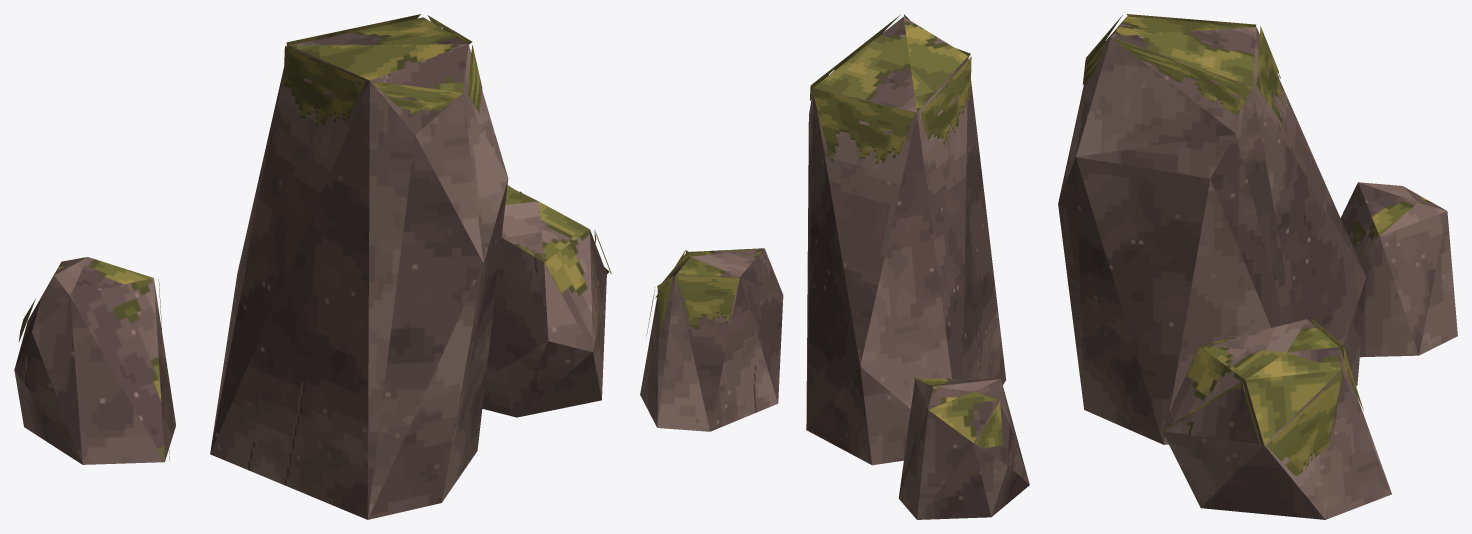
Rendered from SM_RK08_RocksTallGroup.fbx.
3 renders of one model, left to right at view 1: azimuth 30°, elevation 25°; view 2: azimuth 150°, elevation 25°; view 3: azimuth 270°, elevation 25°, orthographic. The views are drawn at different scales.
Parts seen in each view (by area): view 1: RK08_Rock, RK08_RockTop, RK08_Moss; view 2: RK08_Rock, RK08_RockTop, RK08_Moss; view 3: RK08_Rock, RK08_RockTop, RK08_Moss.
Boxes of the visible parts, box(x1,y1,x2,y2) form: RK08_Rock: box(14, 45, 606, 519); RK08_RockTop: box(30, 17, 592, 461); RK08_Moss: box(18, 14, 611, 460); RK08_Rock: box(640, 56, 1029, 519); RK08_RockTop: box(662, 16, 1000, 442); RK08_Moss: box(646, 14, 1002, 448); RK08_Rock: box(1058, 28, 1457, 519); RK08_RockTop: box(1105, 16, 1446, 444); RK08_Moss: box(1082, 14, 1389, 476).
Bounding box in the file's own units: 2.01 × 1.63 × 1.5.
